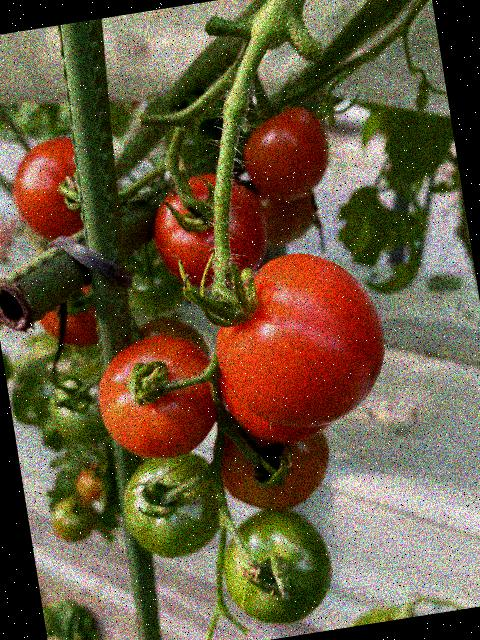l_fully_ripened: (203, 239, 397, 440), (91, 328, 225, 466), (145, 163, 277, 297), (215, 350, 333, 452), (237, 101, 338, 207), (5, 134, 87, 246), (34, 283, 101, 351)
l_green: (215, 500, 342, 632), (114, 447, 226, 565), (46, 366, 115, 450)
l_half_ripened: (207, 402, 337, 517)
